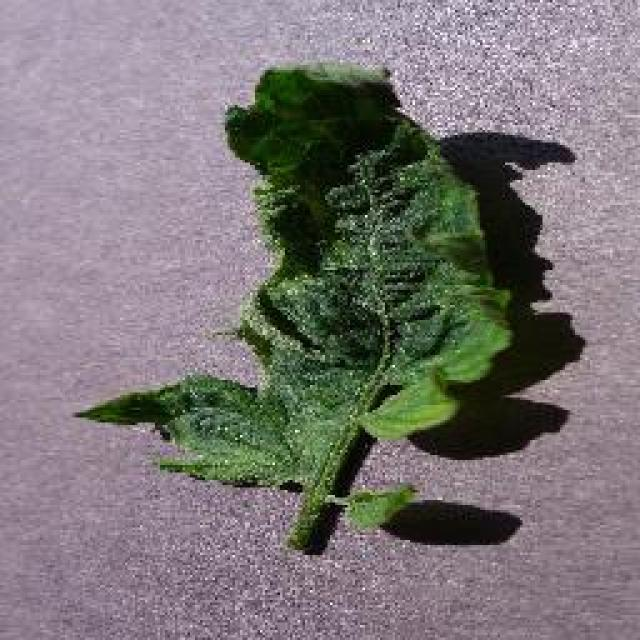Tom_mosaic_virus: (244, 84, 428, 388)
